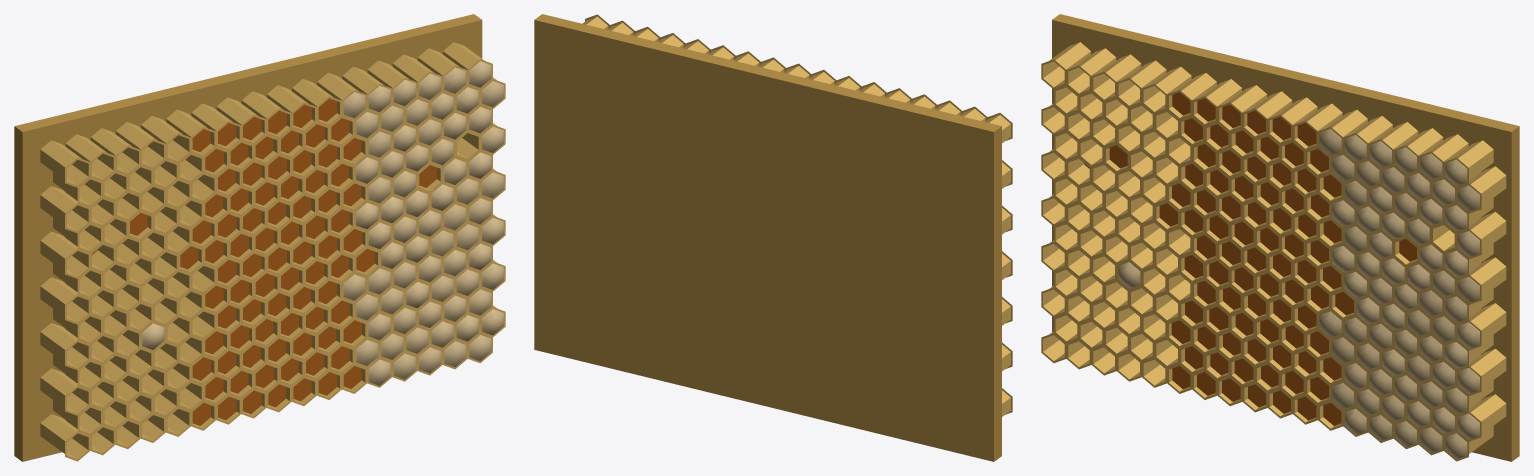
File: hive-comb.glb
3 views of the same model, side by side, from view 1: azimuth 30°, elevation 25°; view 2: azimuth 150°, elevation 25°; view 3: azimuth 330°, elevation 25° (orthographic).
Visible parts, largest first — view 1: hero_cells, hero_caps, hero_honey, board; view 2: board, hero_cells; view 3: hero_cells, hero_caps, hero_honey, board.
Part boxes in pixels (left/top/right/bottom): hero_cells: left=40, top=42, right=505, bottom=461; hero_caps: left=142, top=61, right=503, bottom=385; hero_honey: left=92, top=98, right=436, bottom=425; board: left=14, top=14, right=482, bottom=461; board: left=534, top=14, right=1001, bottom=461; hero_cells: left=582, top=14, right=1012, bottom=416; hero_cells: left=1041, top=42, right=1506, bottom=461; hero_caps: left=1118, top=129, right=1479, bottom=459; hero_honey: left=1084, top=92, right=1416, bottom=425; board: left=1052, top=14, right=1519, bottom=461.
Size of the model in its own units: 11.51 by 7.89 by 1.65.
